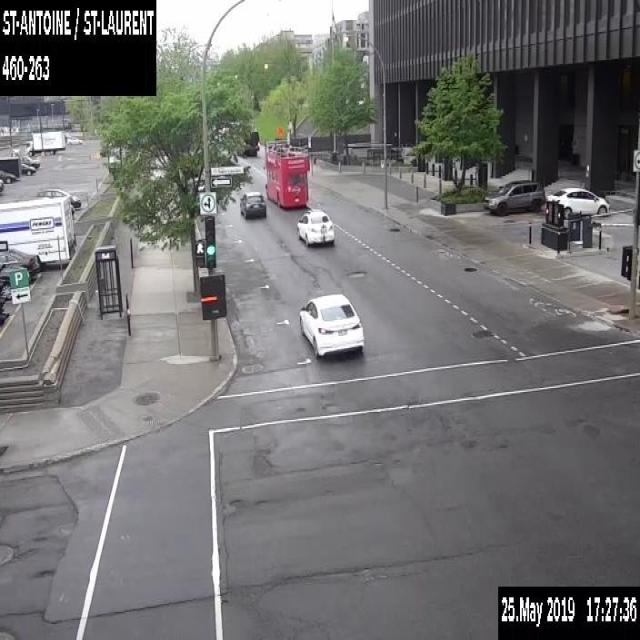bus: (263, 138, 309, 208)
construction: (274, 124, 284, 137)
vehicle: (0, 193, 75, 261), (298, 292, 364, 359), (483, 178, 545, 214), (545, 186, 610, 219), (296, 208, 336, 246), (0, 247, 41, 278), (0, 261, 30, 299), (25, 130, 65, 156), (36, 187, 80, 209), (239, 190, 266, 219), (236, 128, 259, 156), (0, 157, 21, 182), (22, 154, 40, 167), (0, 168, 15, 182), (21, 162, 36, 174), (66, 136, 82, 144), (65, 132, 71, 141), (0, 178, 4, 191), (70, 204, 75, 213)
